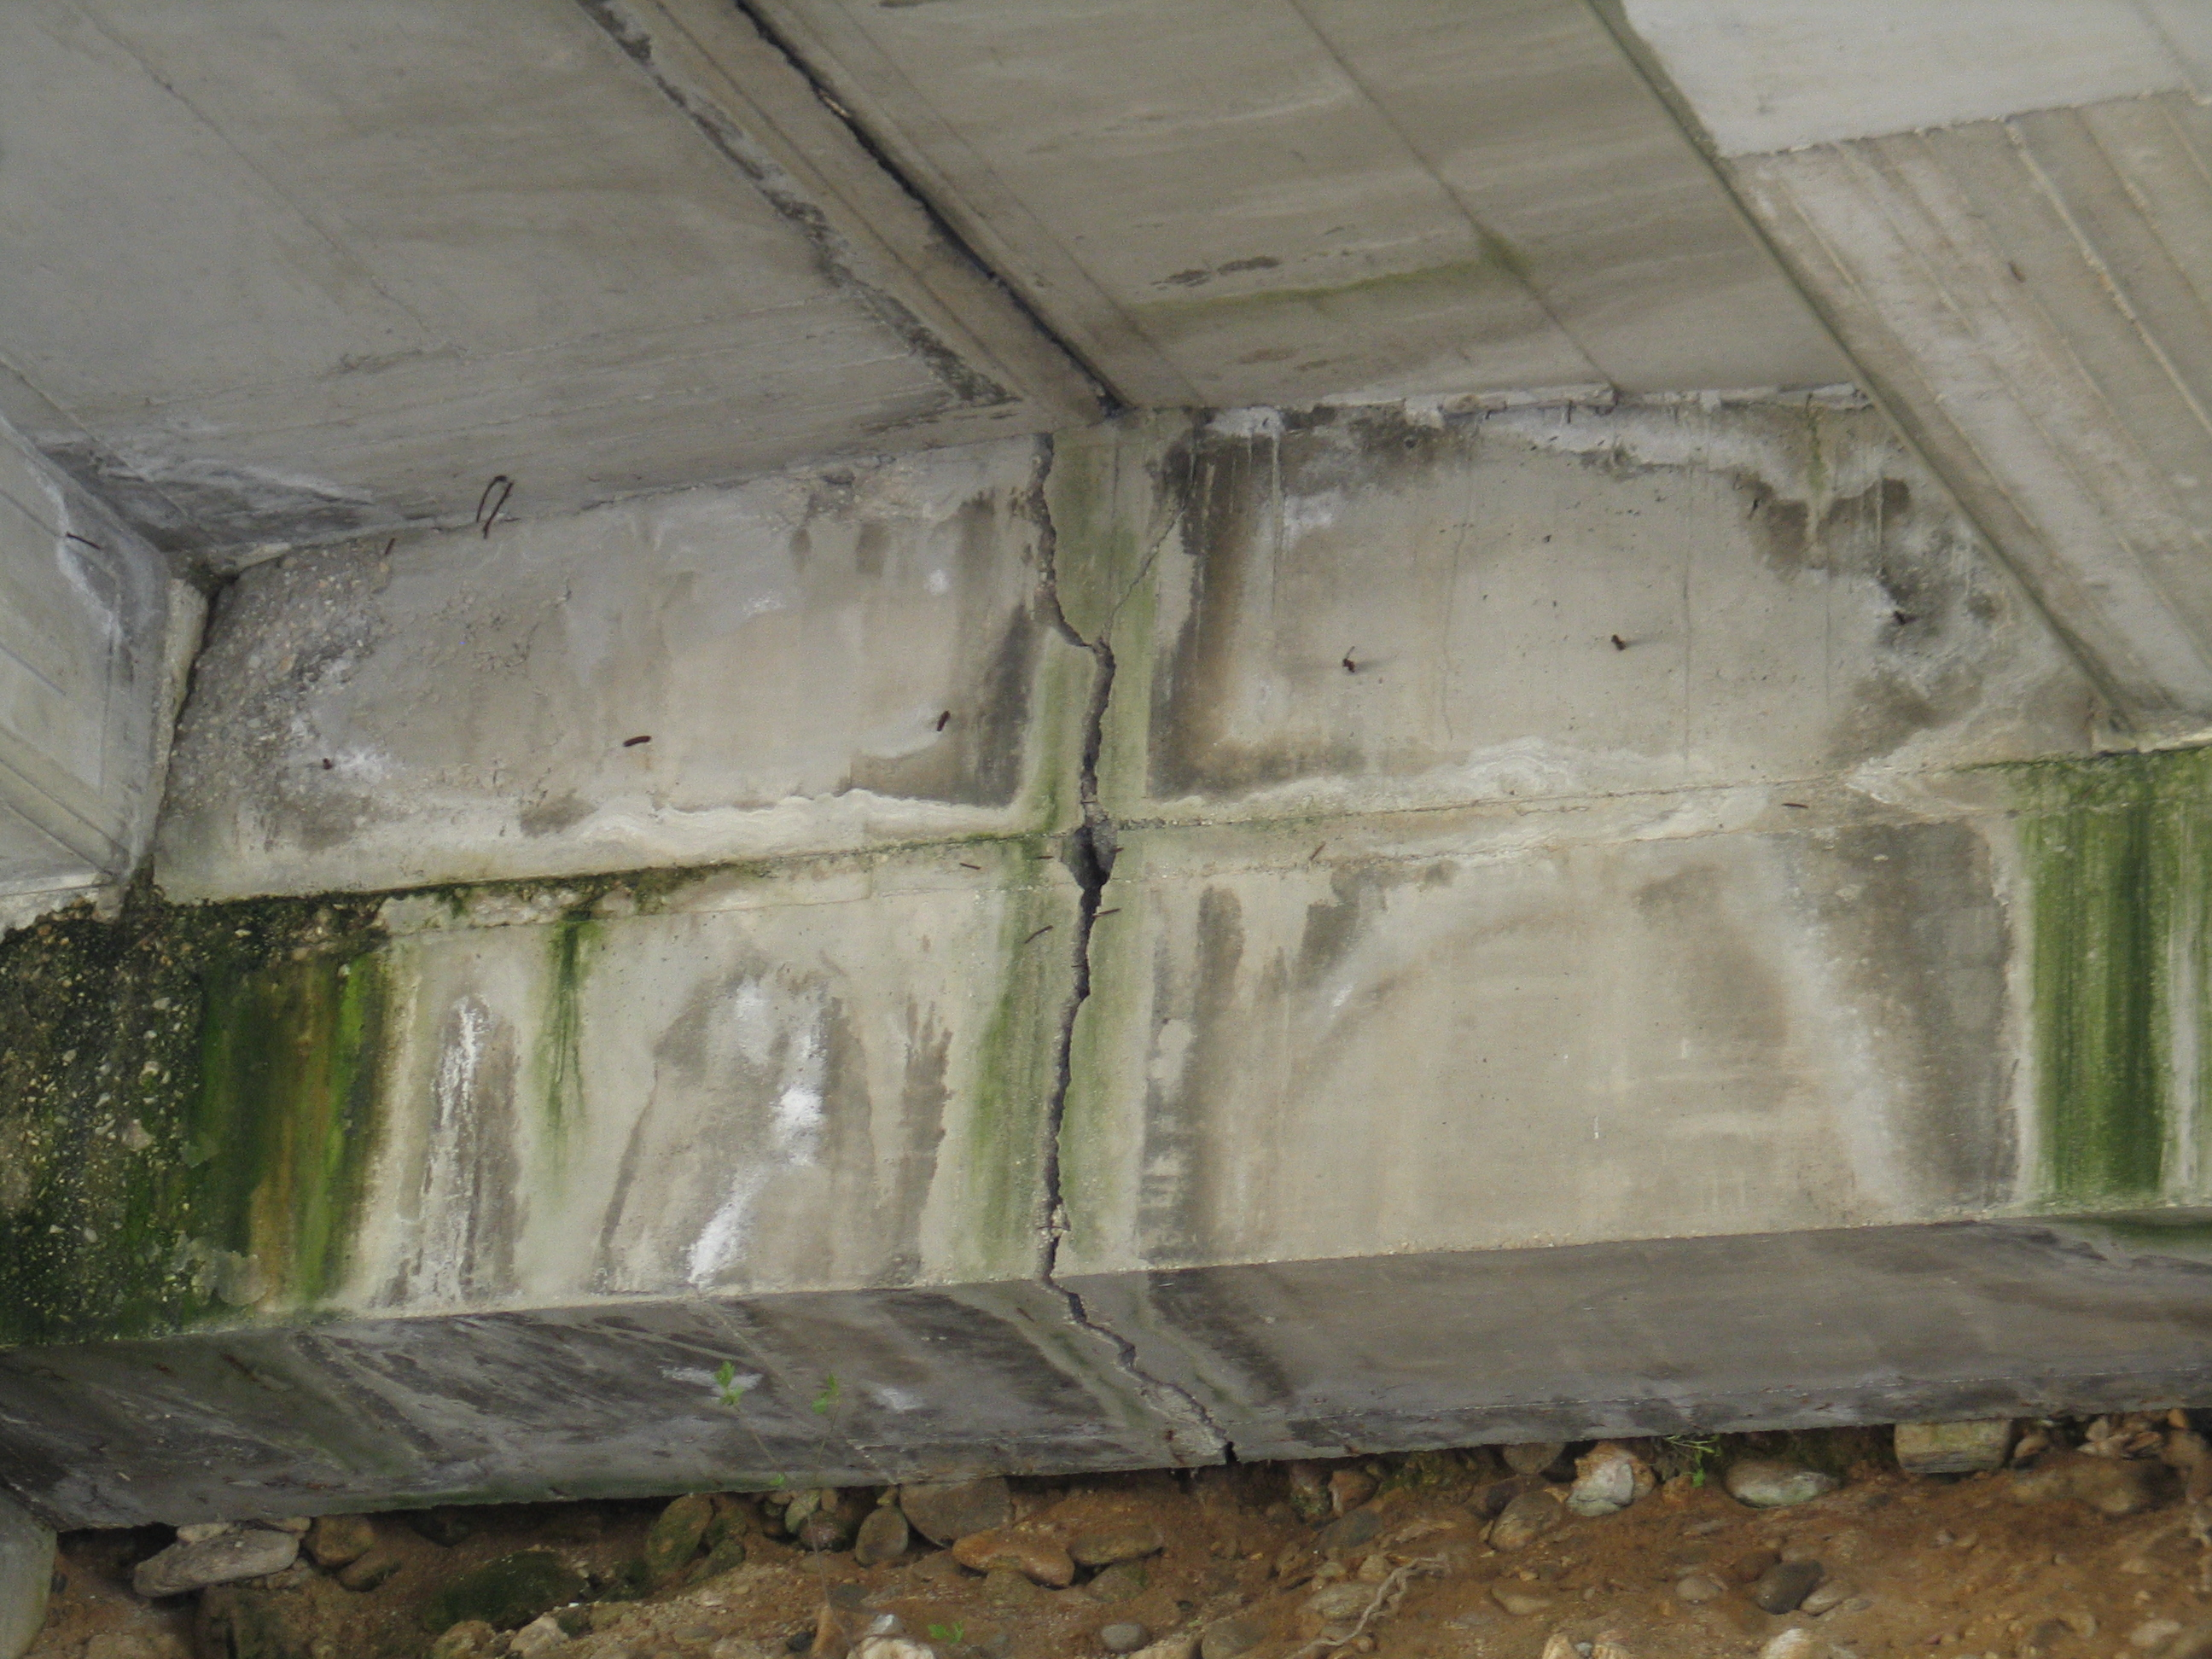defect: (1494, 406, 2212, 1204), (1014, 436, 1240, 1469), (587, 957, 871, 1293), (660, 606, 1050, 828), (383, 992, 523, 1312), (1101, 416, 1216, 636)
